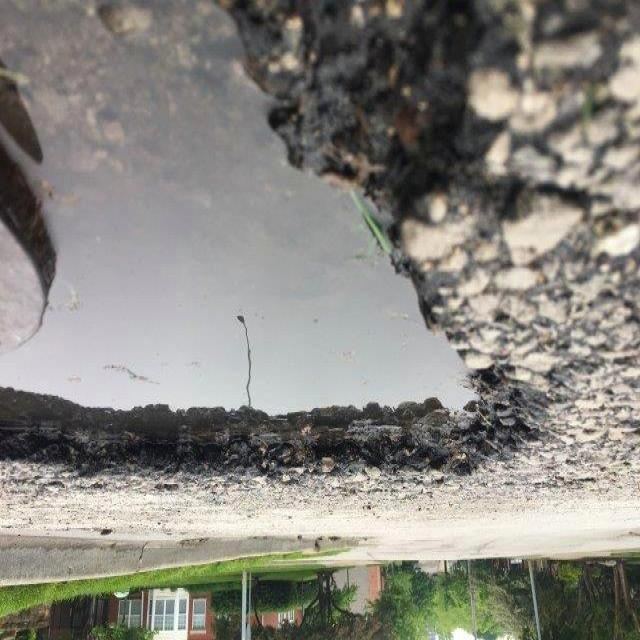jalan retak: (479, 0, 639, 532)
lubang: (0, 0, 529, 516)
